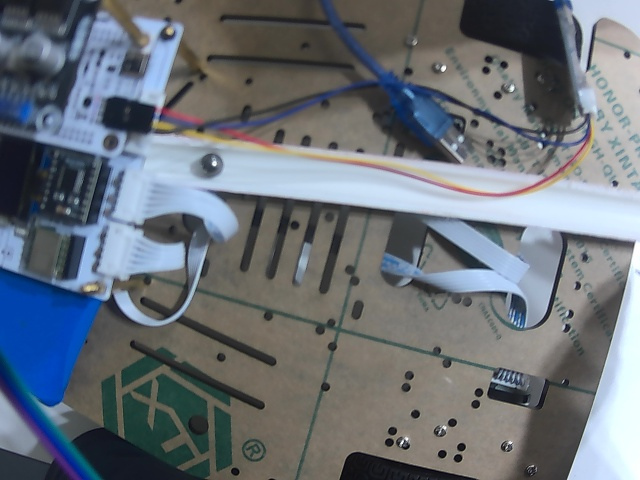steelball: (199, 153, 224, 176)
